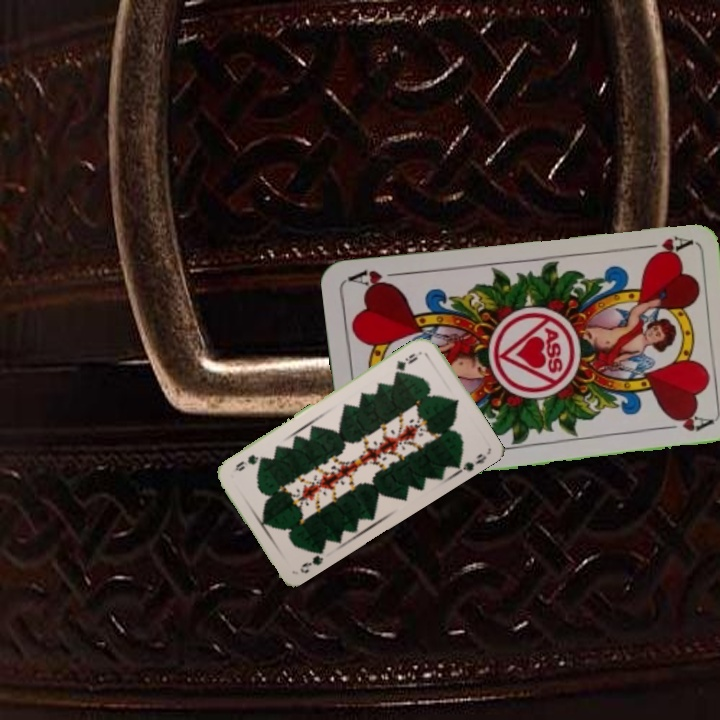G9: (391, 347, 424, 377), (296, 545, 326, 576)
HA: (633, 231, 693, 260)
